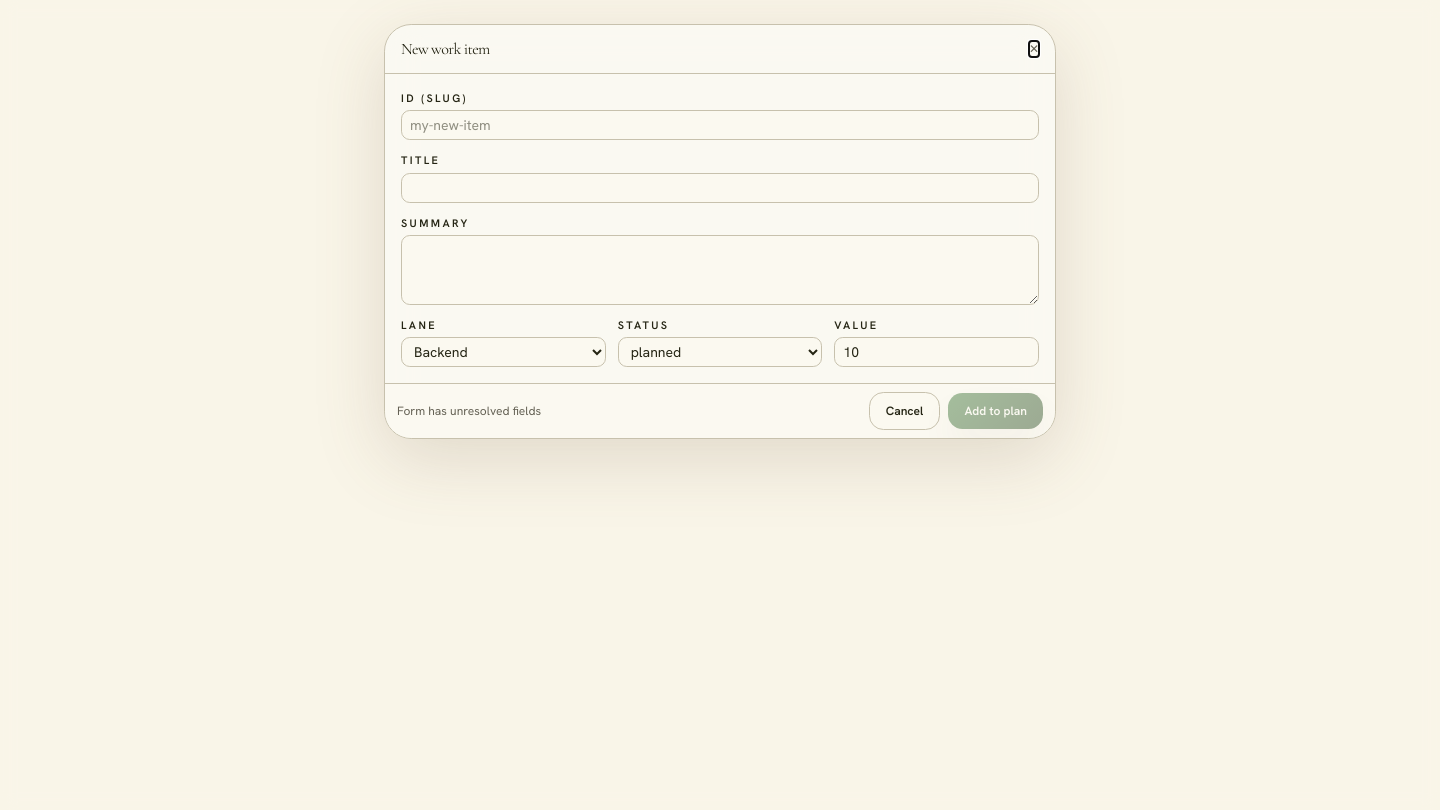
Test: NewItemForm › enables the primary button once required fields are filled
Type "ship-it" into the field with test id "nif-id".
click(720, 125); type("ship-it")  # box [401,110,1039,140]
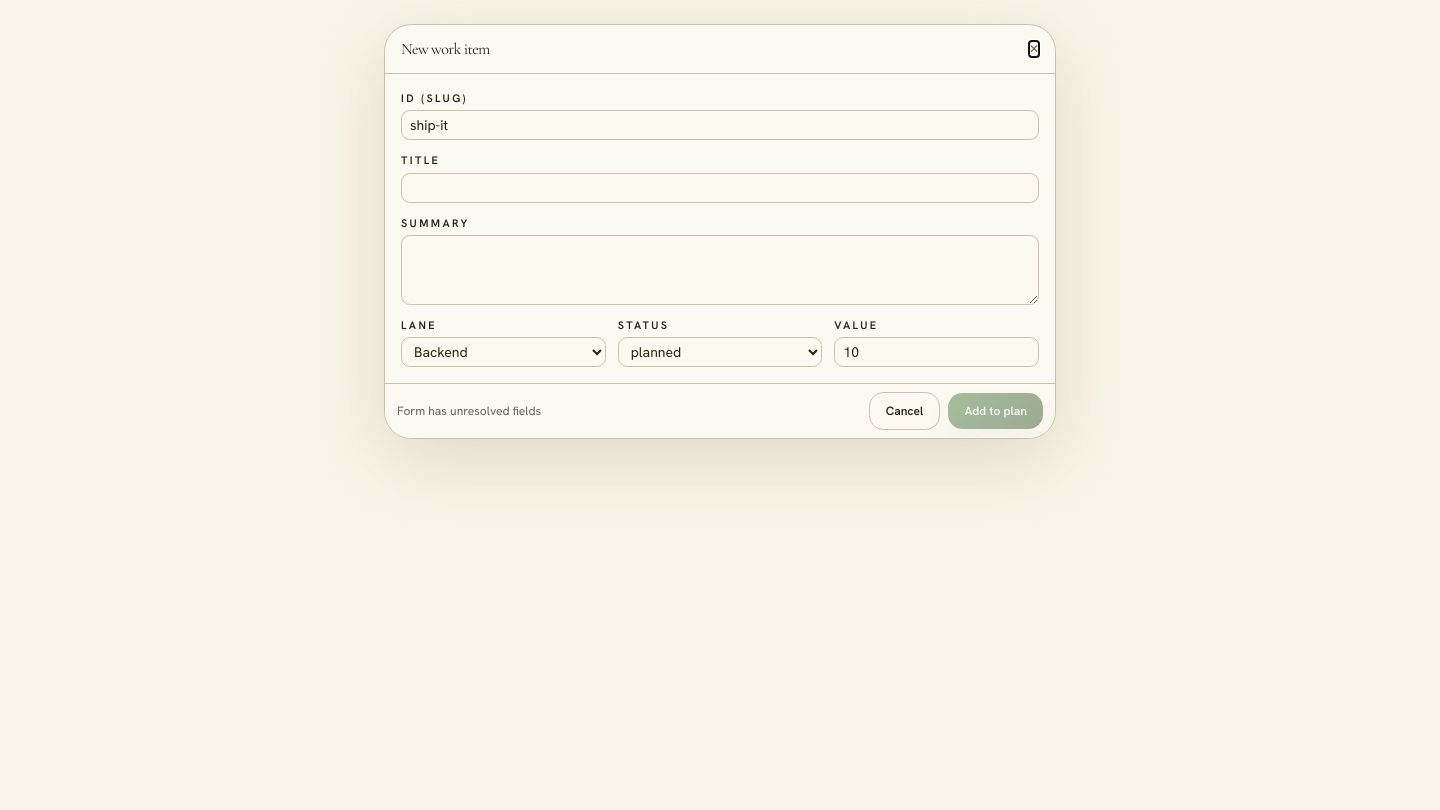
Type "Ship the thing" into the field with test id "nif-title".
click(720, 188); type("Ship the thing")  # box [401,173,1039,203]
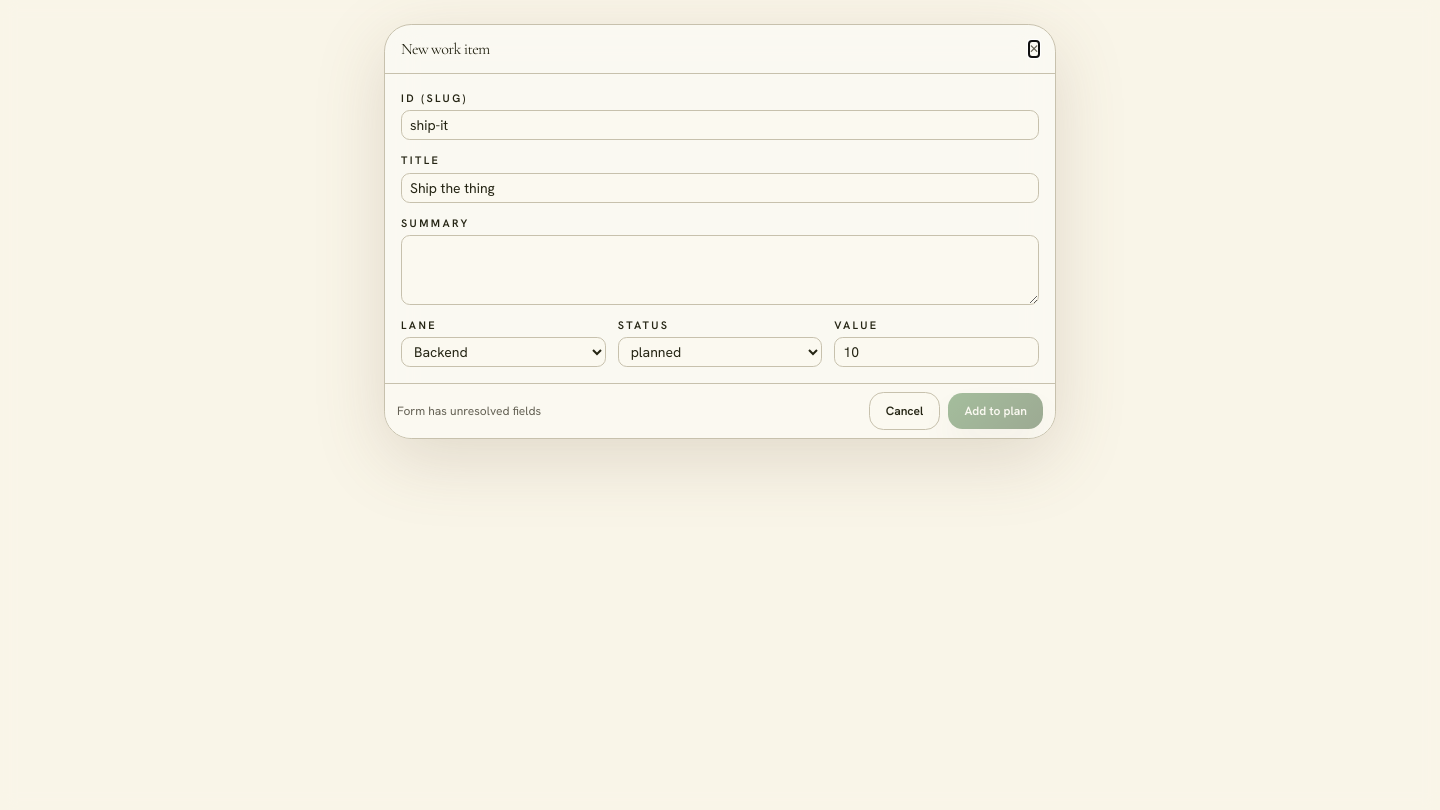
Type "Tighten the bolts." into the text box with test id "nif-summary".
click(720, 270); type("Tighten the bolts.")  # box [401,235,1039,305]
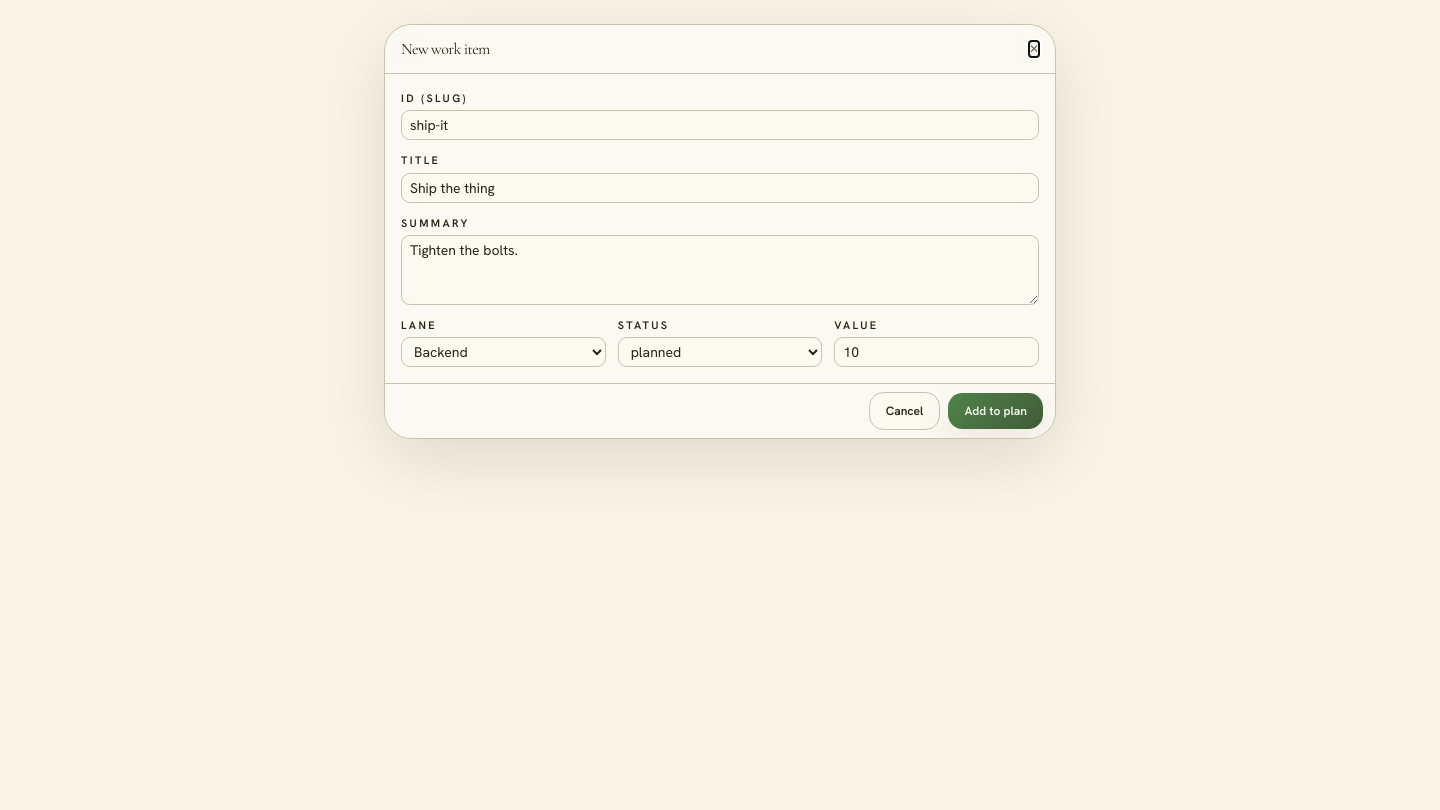
Now the button with test id "create-bar-primary" is enabled, box [948,393,1043,429]
